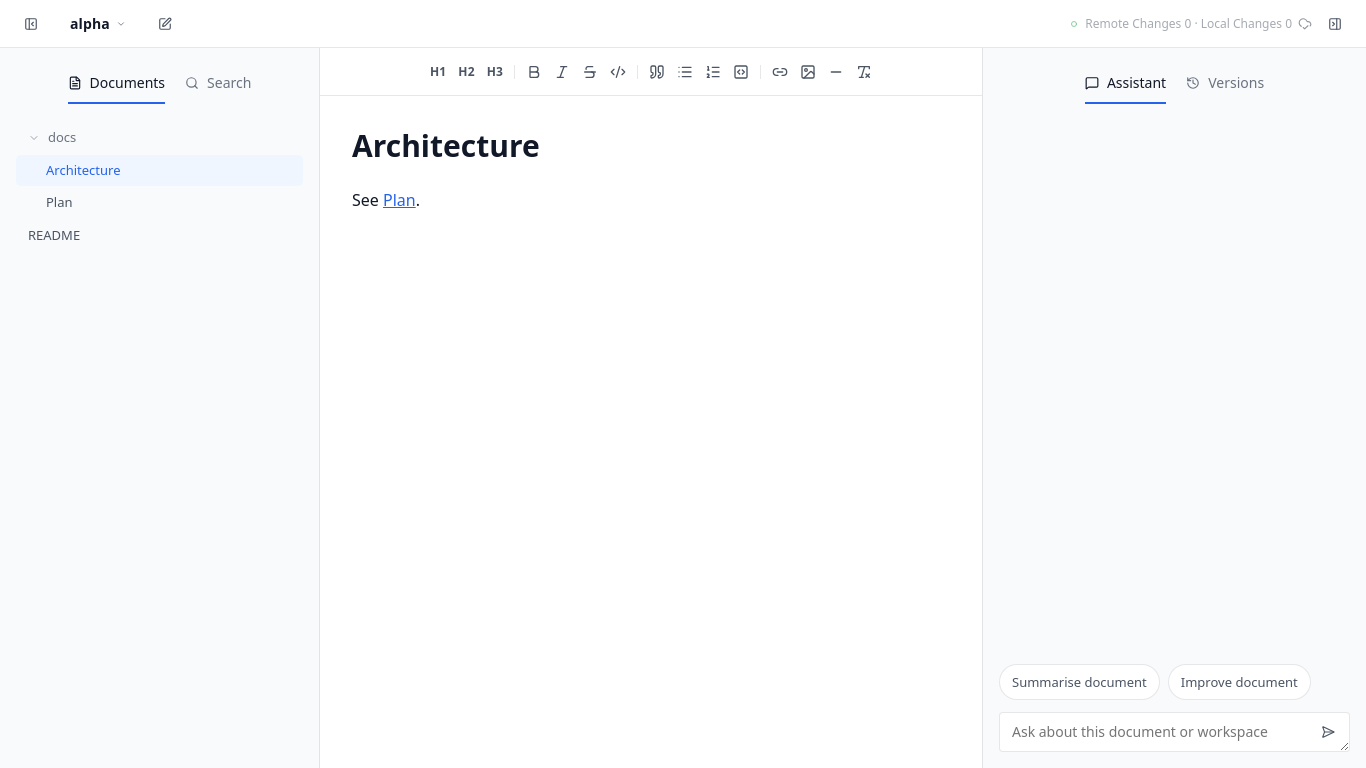
Test: App › shows unsynced changes and enables Sync when editor content is dirty
Expected: the element with test id "workspace-sidebar" is shown, top-left (0, 48), bottom-right (320, 767)
Replace the text in the text box showing "Architecture" with "Architecture updated": (651, 147) top-left (352, 128), bottom-right (950, 166)
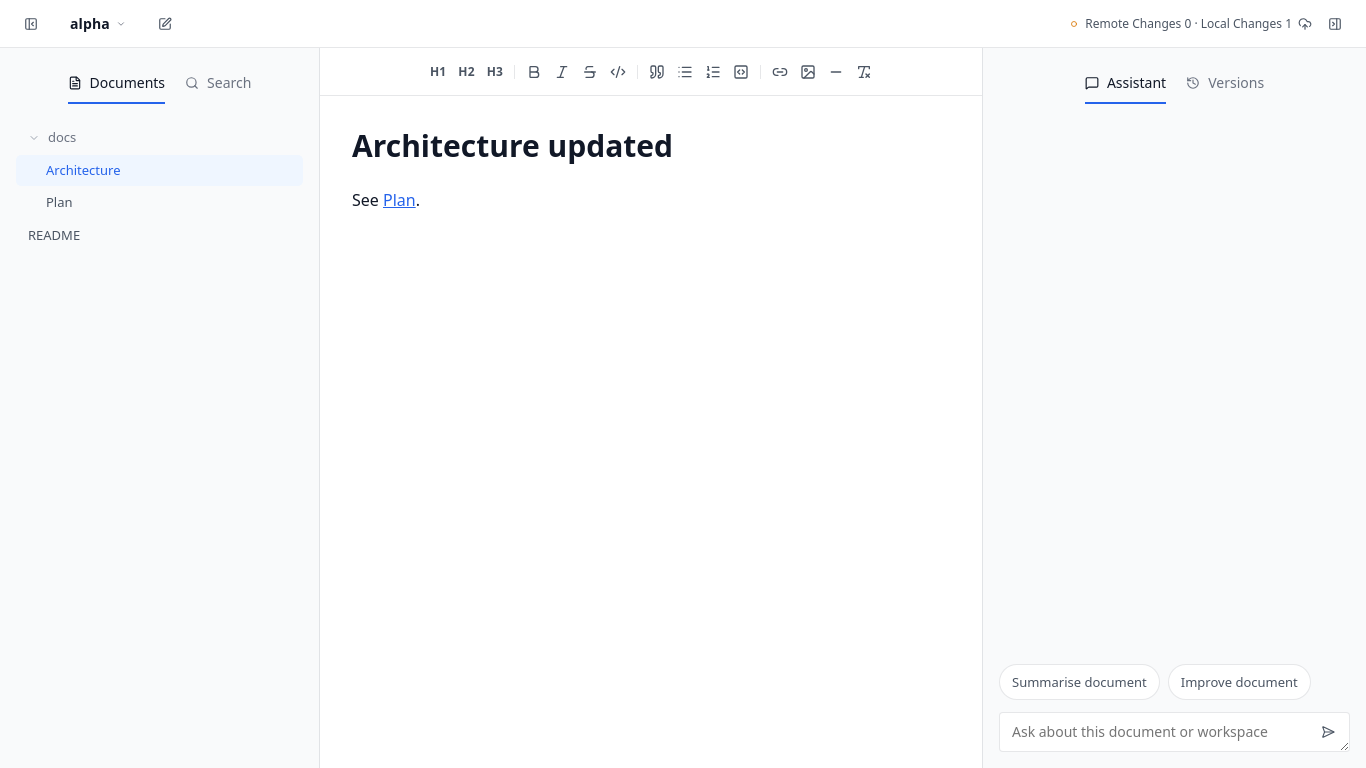
Now the text "Remote Changes 0 · Local Changes 1" is shown, box top-left (1085, 18), bottom-right (1292, 30)
Now the button with aria-label "Sync now" is enabled, box top-left (1069, 16), bottom-right (1312, 30)
